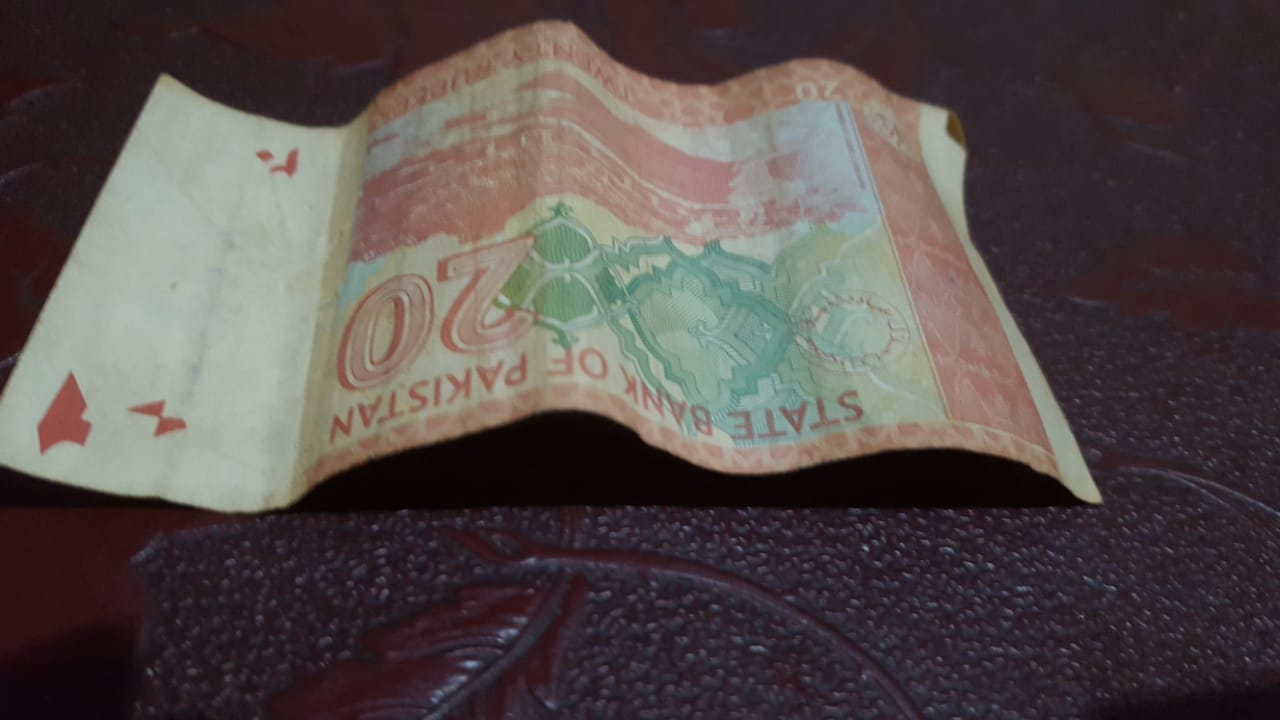20 rupee: (21, 32, 1086, 545)
